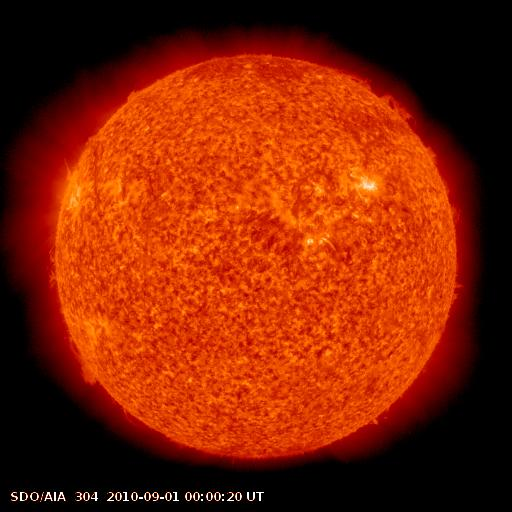prominence: (56, 329, 102, 389), (378, 82, 416, 126), (330, 62, 374, 99), (37, 239, 62, 294), (52, 147, 80, 187)
